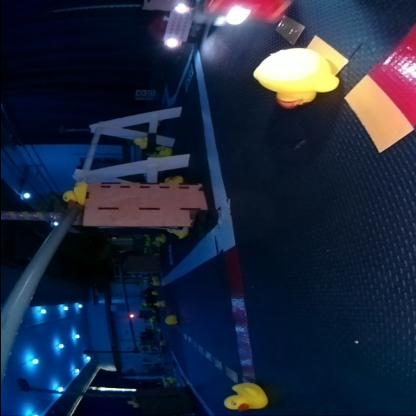Duckie: (253, 47, 336, 108), (222, 382, 266, 408), (61, 182, 83, 204), (164, 226, 186, 238), (132, 136, 144, 148), (163, 314, 176, 324), (164, 176, 180, 184), (156, 234, 164, 242), (157, 300, 164, 306), (150, 280, 158, 284)
Duckiebot: (200, 1, 304, 24), (146, 1, 194, 50)
